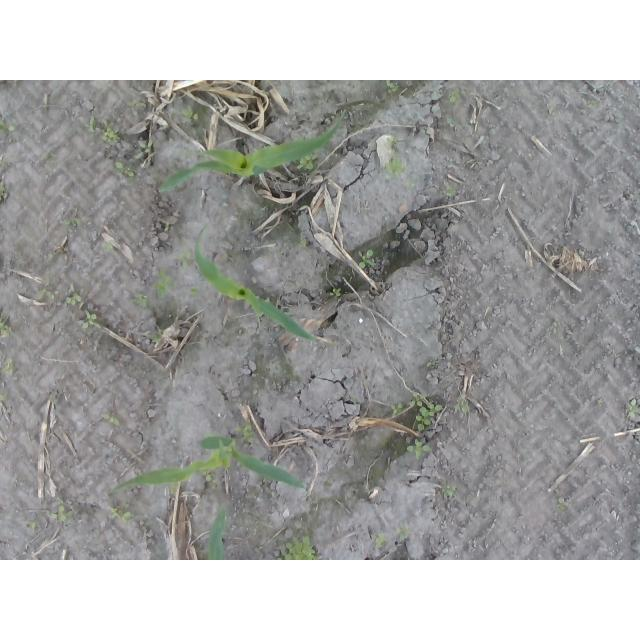Maize: (159, 109, 347, 195), (195, 224, 321, 346), (110, 436, 310, 504), (208, 505, 236, 560)
Weeds: (393, 393, 440, 457), (40, 286, 83, 307), (283, 534, 317, 560), (85, 117, 119, 142), (386, 138, 407, 177), (154, 273, 175, 303), (356, 250, 376, 273), (237, 424, 259, 444), (109, 502, 131, 522), (51, 507, 74, 525), (0, 160, 10, 200), (134, 140, 152, 161), (84, 312, 101, 333), (396, 524, 413, 544), (298, 155, 319, 170), (456, 392, 470, 414), (183, 105, 198, 125), (103, 413, 122, 428), (0, 115, 12, 138), (116, 160, 132, 177), (177, 249, 191, 268), (590, 85, 602, 107), (629, 399, 640, 423), (373, 531, 388, 547), (385, 80, 400, 94), (449, 90, 462, 106), (1, 321, 12, 339), (557, 497, 568, 515), (441, 186, 455, 199), (446, 485, 458, 500), (62, 218, 81, 227), (4, 359, 13, 378), (330, 287, 342, 299), (25, 522, 37, 533), (101, 242, 112, 251), (137, 296, 147, 305), (549, 102, 556, 114), (191, 286, 200, 294)
